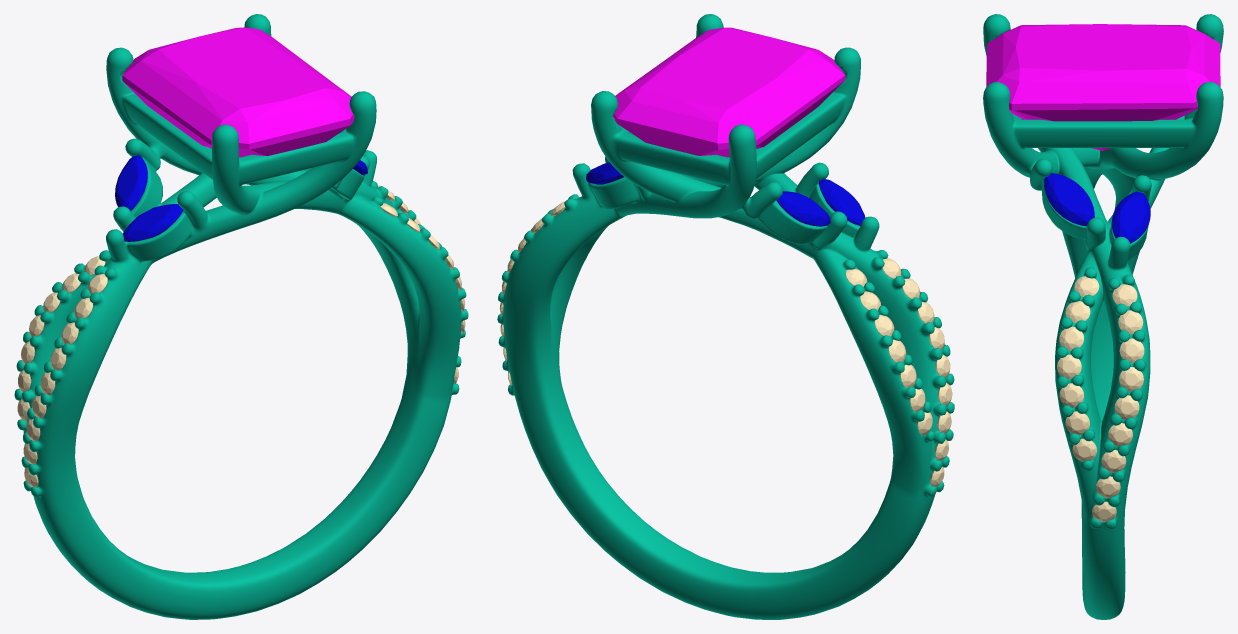
The model's file is BE104B_RA_200ct_RENDER.glb.
3 views of the same model, side by side, from view 1: azimuth 30°, elevation 25°; view 2: azimuth 150°, elevation 25°; view 3: azimuth 270°, elevation 25° (orthographic).
Parts seen in each view (by area): view 1: Metal 01, CS_Diamond_Radiant, Diamond_Marquise_side.003, Diamond_Marquise_side; view 2: Metal 01, CS_Diamond_Radiant, Diamond_Marquise_side, Diamond_Marquise_side.003; view 3: Metal 01, CS_Diamond_Radiant, Diamond_Marquise_side.001, Diamond_Marquise_side.002, Diamond_Round_Gem_SH.002, Diamond_Round_Gem_SH.003, Diamond_Round_Gem_SH.005, Diamond_Round_Gem_SH.004, Diamond_Round_Gem_SH.010, Diamond_Round_Gem_SH.001, Diamond_Round_Gem_SH.009, Diamond_Round_Gem_SH.006 (+8 smaller).
Part boxes in pixels (x1=…): Metal 01: x1=14, y1=14, x2=468, y2=619; CS_Diamond_Radiant: x1=122, y1=27, x2=354, y2=157; Diamond_Marquise_side.003: x1=123, y1=204, x2=183, y2=241; Diamond_Marquise_side: x1=115, y1=155, x2=147, y2=210; Metal 01: x1=497, y1=14, x2=954, y2=619; CS_Diamond_Radiant: x1=613, y1=27, x2=845, y2=157; Diamond_Marquise_side: x1=776, y1=191, x2=830, y2=226; Diamond_Marquise_side.003: x1=819, y1=179, x2=865, y2=225; Metal 01: x1=983, y1=14, x2=1223, y2=619; CS_Diamond_Radiant: x1=986, y1=24, x2=1220, y2=150; Diamond_Marquise_side.001: x1=1044, y1=173, x2=1094, y2=226; Diamond_Marquise_side.002: x1=1111, y1=191, x2=1150, y2=243; Diamond_Round_Gem_SH.002: x1=1057, y1=354, x2=1081, y2=379; Diamond_Round_Gem_SH.003: x1=1119, y1=338, x2=1144, y2=362; Diamond_Round_Gem_SH.005: x1=1059, y1=383, x2=1084, y2=407; Diamond_Round_Gem_SH.004: x1=1119, y1=367, x2=1143, y2=391; Diamond_Round_Gem_SH.010: x1=1114, y1=395, x2=1139, y2=419; Diamond_Round_Gem_SH.001: x1=1059, y1=326, x2=1083, y2=350; Diamond_Round_Gem_SH.009: x1=1118, y1=310, x2=1143, y2=334; Diamond_Round_Gem_SH.006: x1=1065, y1=411, x2=1089, y2=435.
Size of the model in its own units: 20.63 by 24.51 by 9.73.
